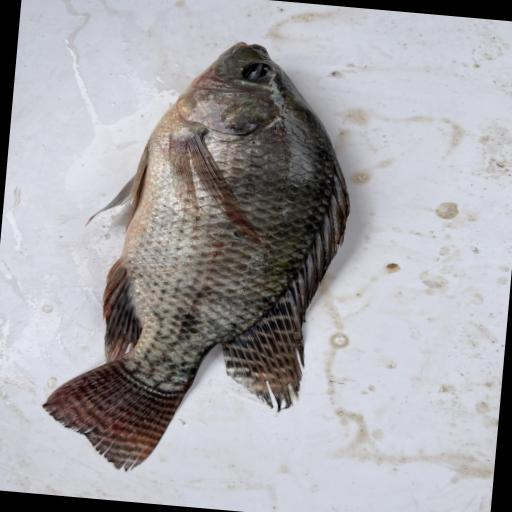Tilapia: (38, 27, 365, 489)
